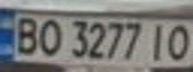2: (84, 18, 109, 60)
3: (63, 18, 90, 60)
7: (121, 19, 148, 61), (103, 18, 127, 61)
B: (9, 13, 42, 55)
I: (145, 20, 172, 62)
O: (33, 16, 66, 56), (163, 21, 193, 62)
